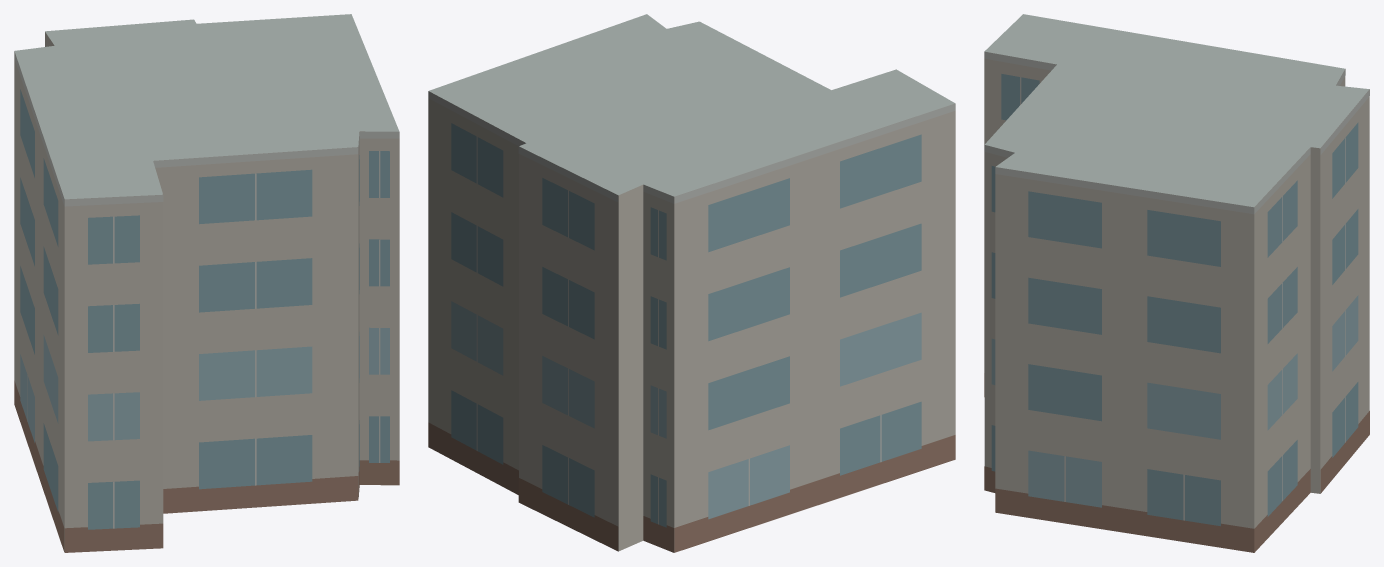
The model's file is survey-upis-32674871.glb.
3 renders of one model, left to right at view 1: azimuth 30°, elevation 25°; view 2: azimuth 150°, elevation 25°; view 3: azimuth 270°, elevation 25°, orthographic. The views are drawn at different scales.
Visible parts, largest first — view 1: survey-upis-32674871.tmp; view 2: survey-upis-32674871.tmp; view 3: survey-upis-32674871.tmp.
Part boxes in pixels (x1,y1,x2,y2): survey-upis-32674871.tmp: (14, 14, 399, 552); survey-upis-32674871.tmp: (428, 14, 955, 552); survey-upis-32674871.tmp: (984, 14, 1369, 552).
Size of the model in its own units: 14.4 by 12 by 12.14.
